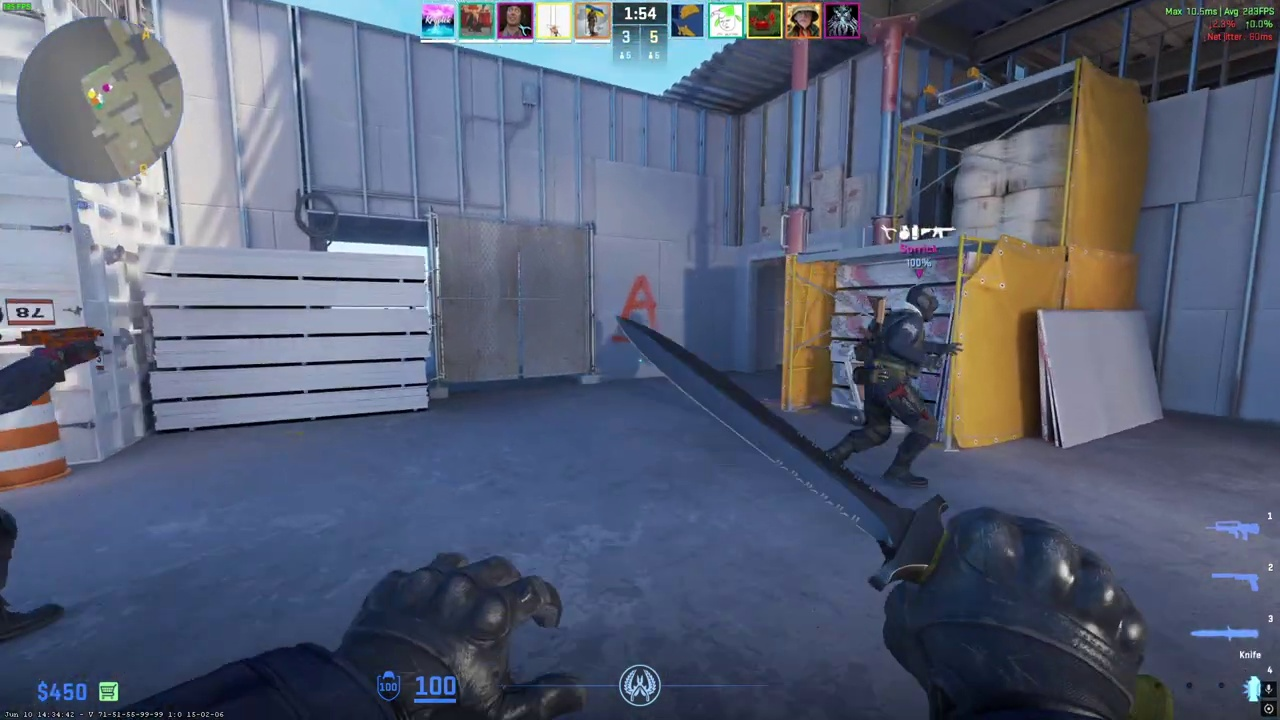CT: (833, 283, 951, 487)
